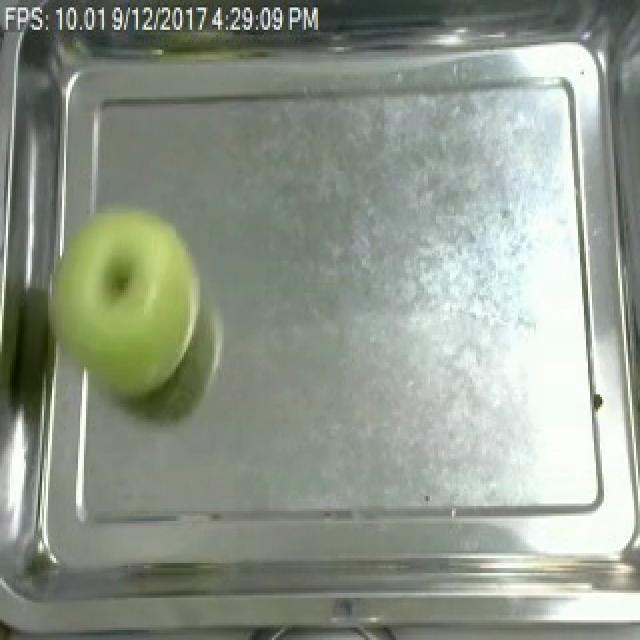50-_ripeness: (60, 208, 205, 378)
